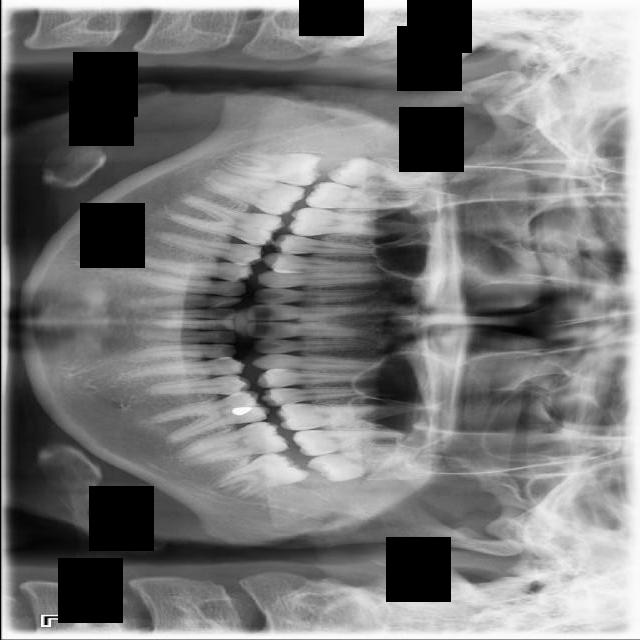3M ESPE Implant: (326, 153, 447, 201)
52: (230, 406, 252, 416)
73: (24, 614, 32, 624)
BioHorizons Implant: (291, 426, 407, 457)
BioLife Implant: (304, 440, 421, 487)
Biomet 3i Implant: (205, 442, 310, 508)
Blue Sky Bio Implant: (170, 417, 289, 469)
Caries: (305, 181, 428, 213)
Implant: (194, 165, 304, 220)
Keystone Dental Implant: (214, 149, 322, 187)
